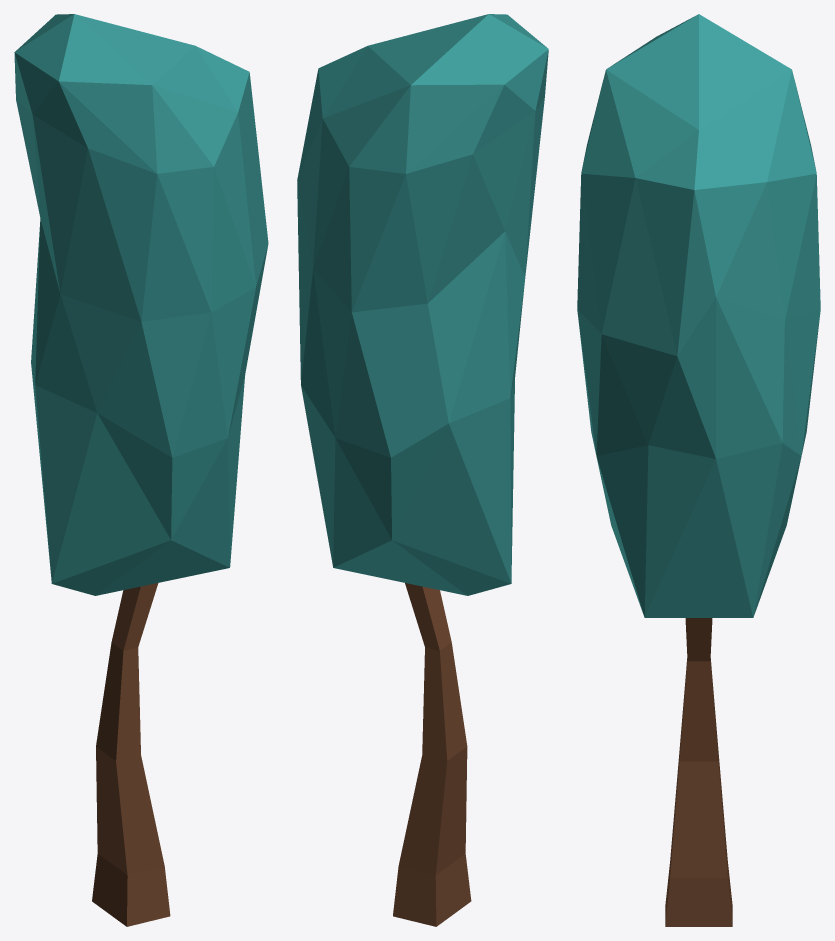
Rendered from Tree_38_Blue.fbx.
The picture shows the model from 3 angles, left to right: view 1: azimuth 30°, elevation 25°; view 2: azimuth 150°, elevation 25°; view 3: azimuth 270°, elevation 25°; orthographic projection. The views are drawn at different scales.
Parts seen in each view (by area): view 1: Tree_38_Blue_Part_1, Tree_38_Blue_Part_2; view 2: Tree_38_Blue_Part_1, Tree_38_Blue_Part_2; view 3: Tree_38_Blue_Part_1, Tree_38_Blue_Part_2.
Boxes of the visible parts, x1,y1,x2,y2 form: Tree_38_Blue_Part_1: [14, 14, 268, 595]; Tree_38_Blue_Part_2: [92, 583, 170, 926]; Tree_38_Blue_Part_1: [297, 14, 548, 595]; Tree_38_Blue_Part_2: [393, 583, 471, 926]; Tree_38_Blue_Part_1: [577, 14, 820, 617]; Tree_38_Blue_Part_2: [665, 618, 732, 926].
Bounding box in the file's own units: 209 × 800 × 201.
